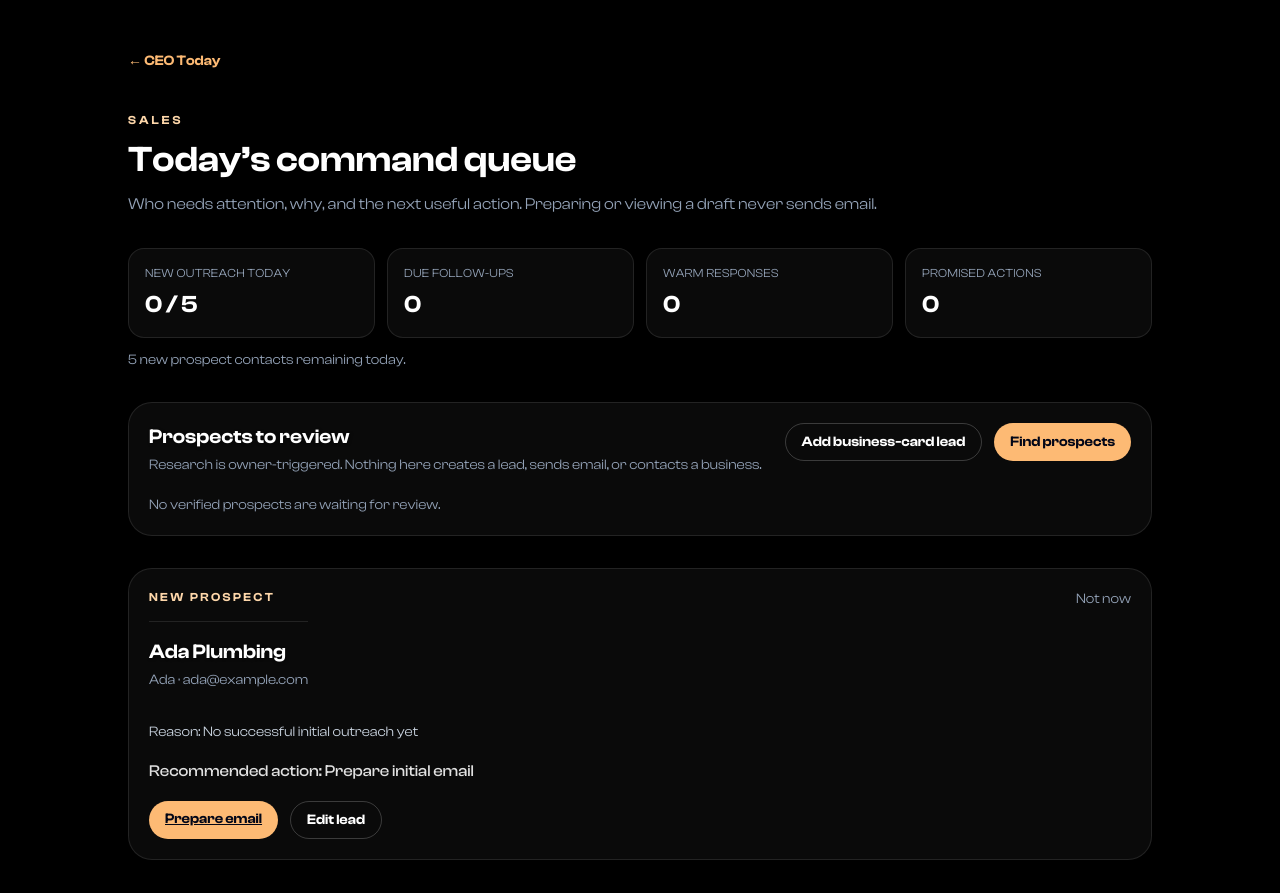
Test: SalesPage › does not discover on load or reload; the owner must prepare and then explicitly start discovery
Expected: the heading "Prospects to review" is shown, [149, 425, 350, 448]
Click the button "Find prospects" at (1063, 442), box [994, 423, 1131, 461]
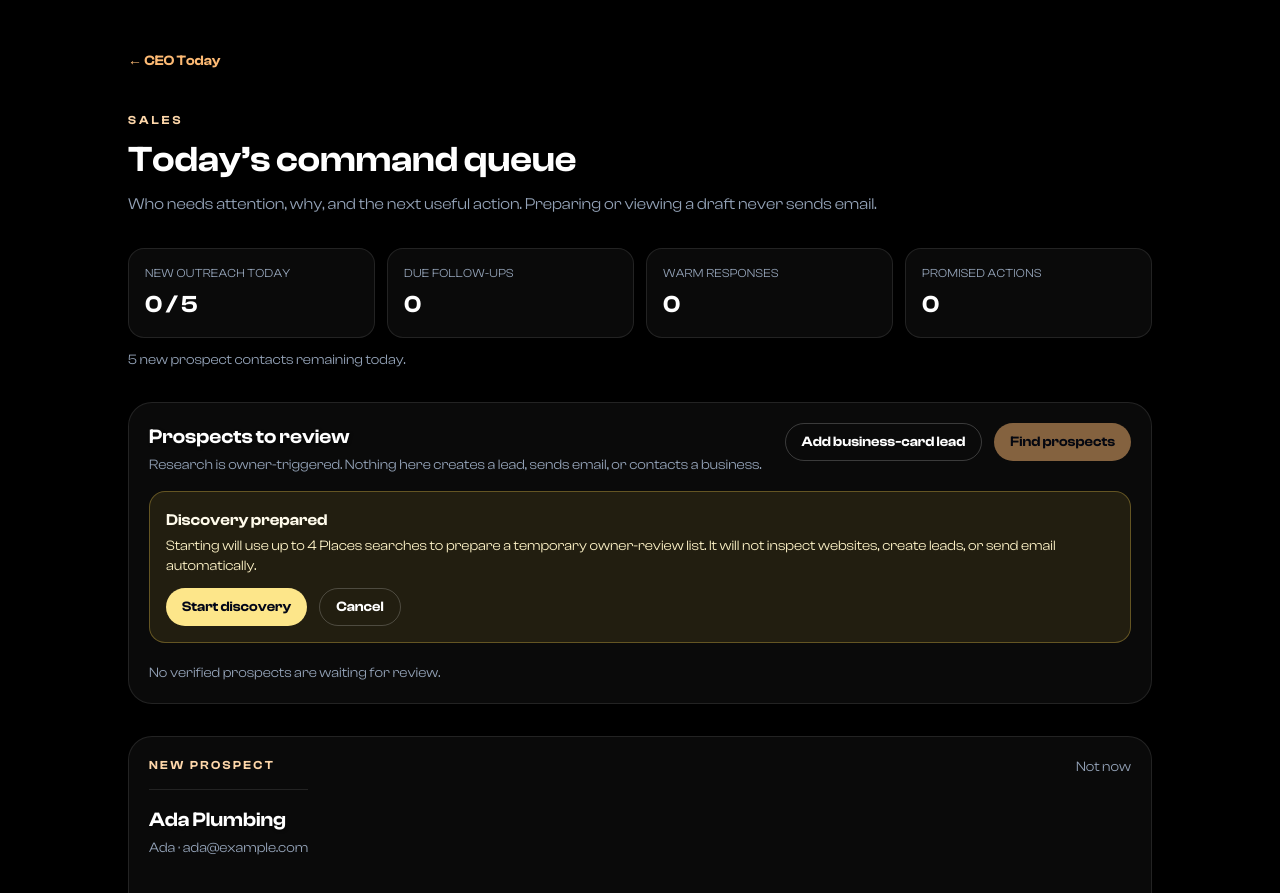
Now the text "Discovery prepared" is shown, box [166, 511, 328, 529]
Click the button "Start discovery" at (237, 607), box [166, 588, 307, 626]
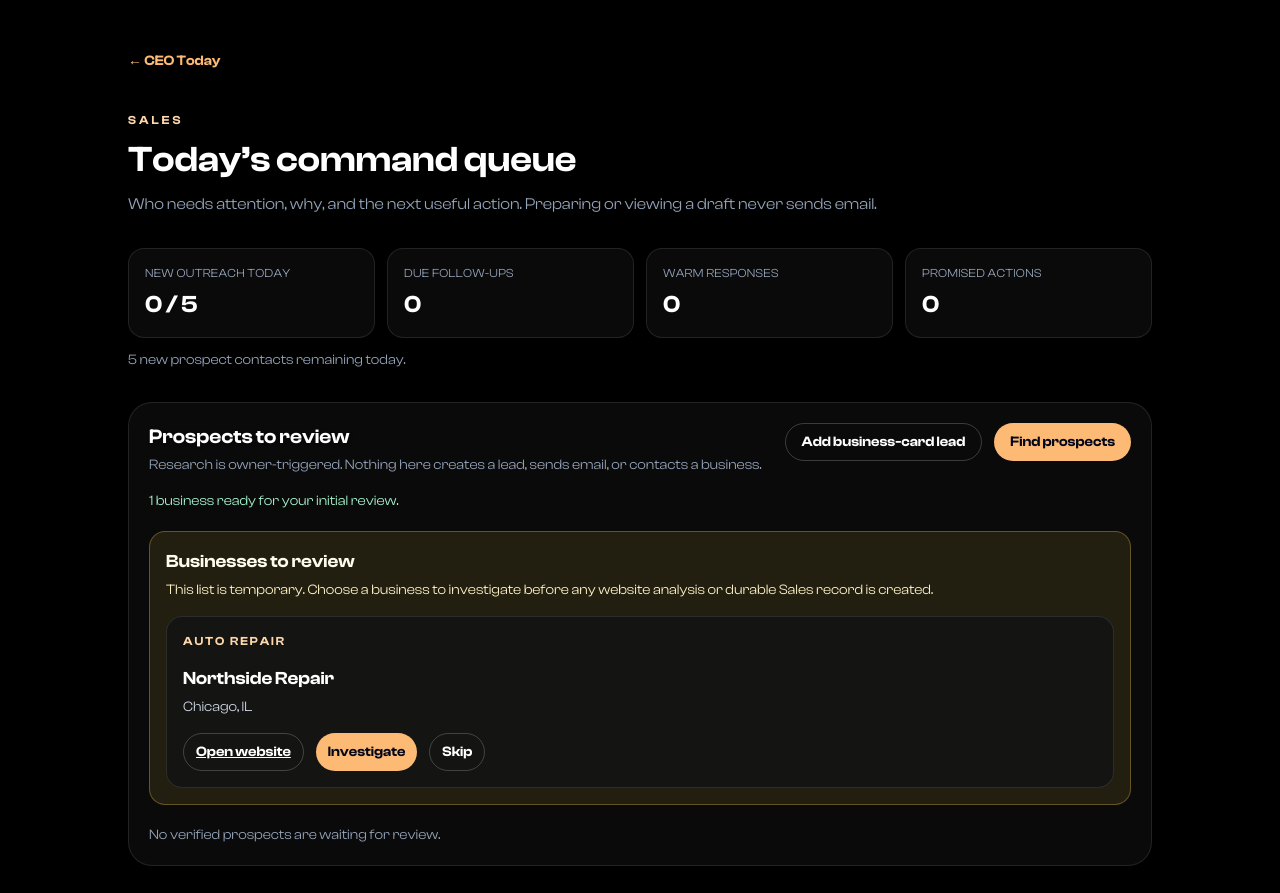
Now the heading "Businesses to review" is shown, box [166, 551, 355, 572]
Now the heading "Northside Repair" is shown, box [183, 668, 334, 689]
